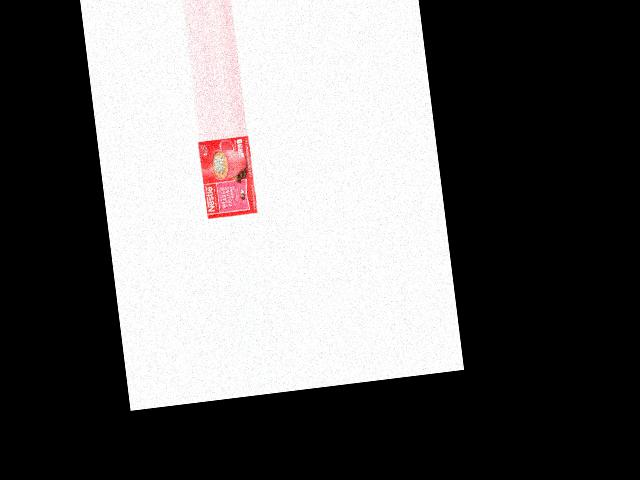chocolate: (199, 134, 260, 216)
